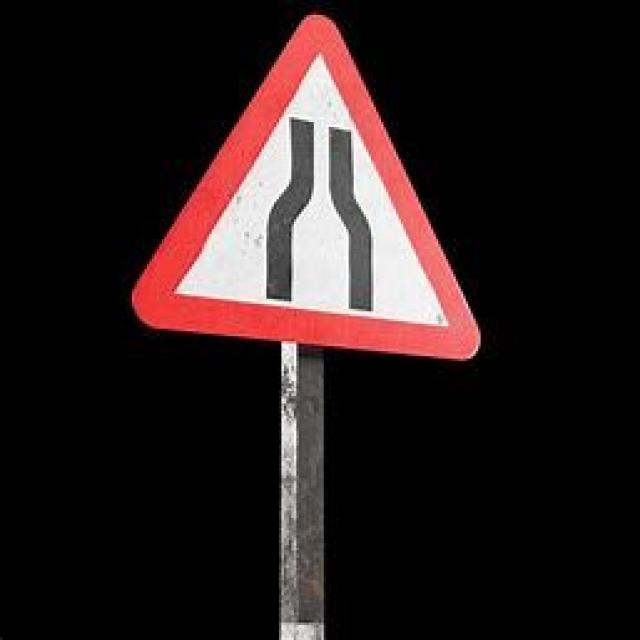NARROW_ROAD_AHEAD: (130, 15, 485, 359)
